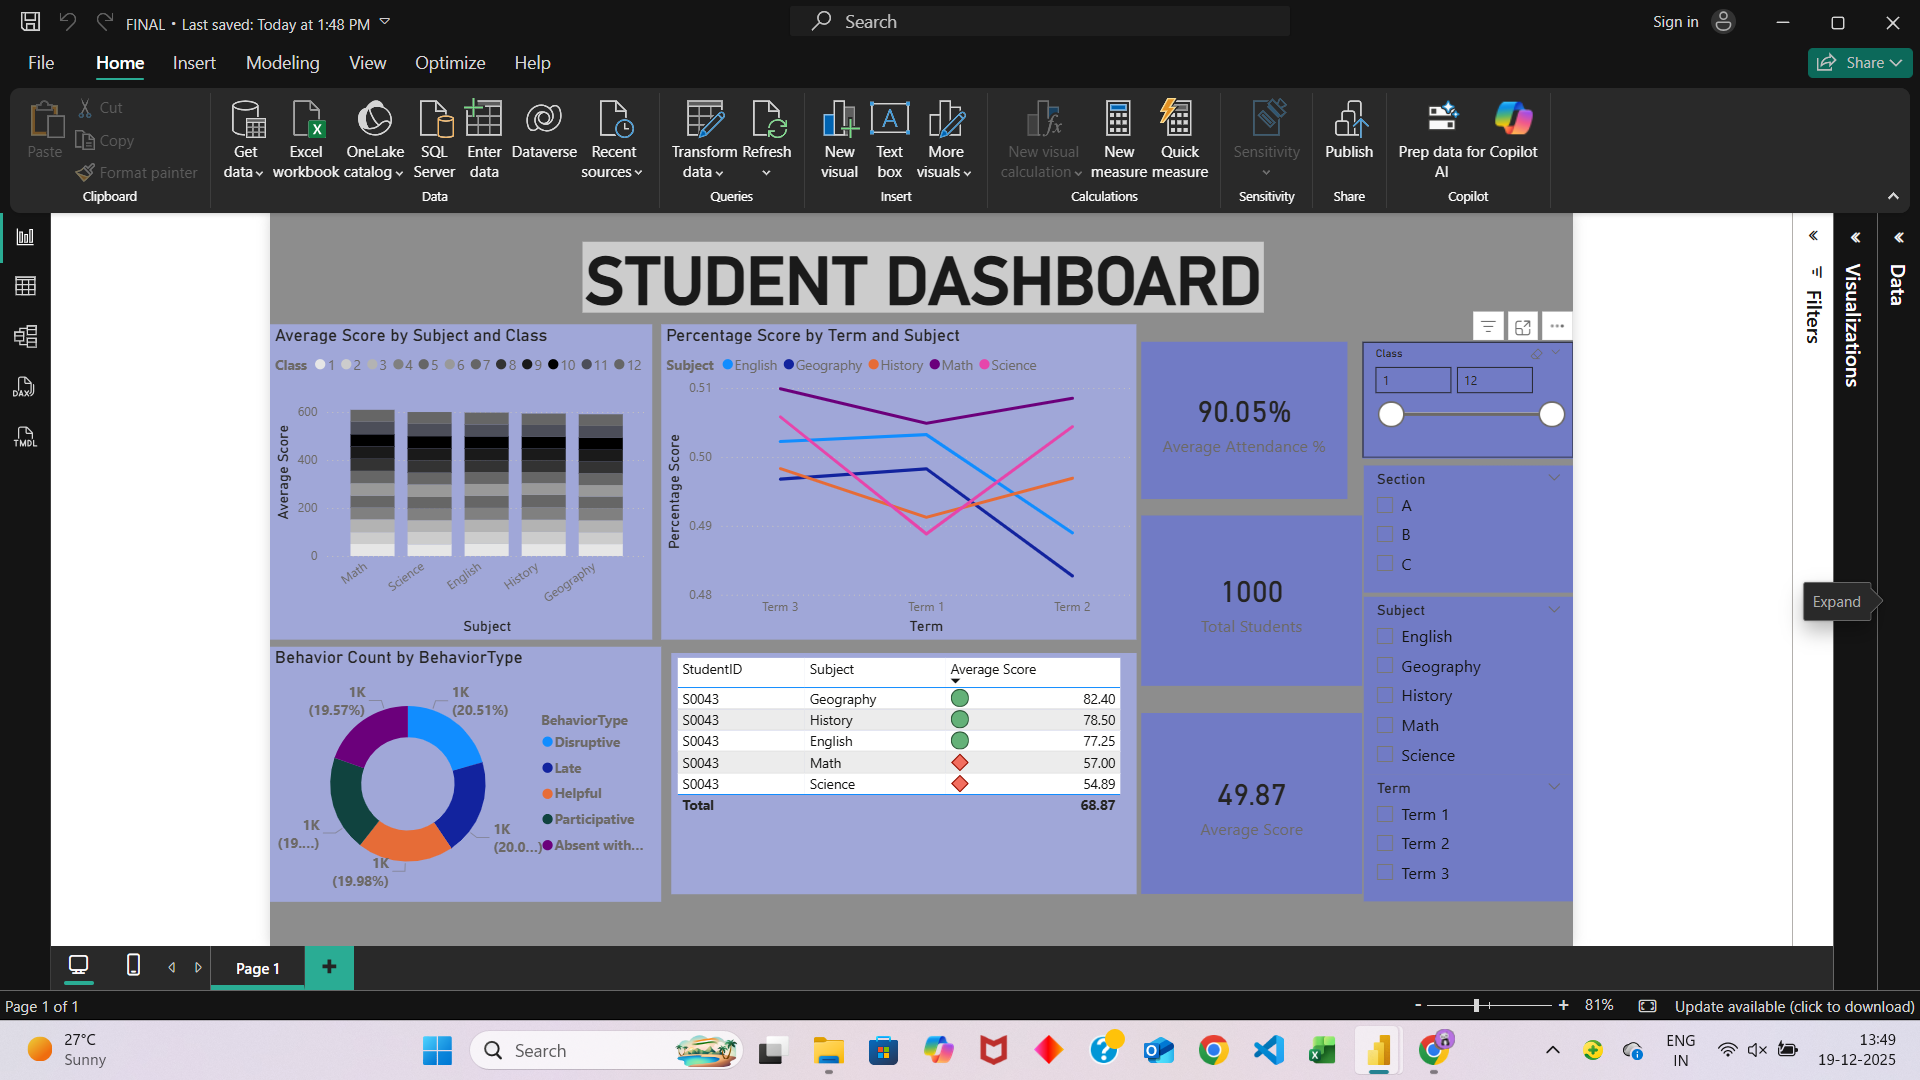

What the dashboard file says about the page in this screenshot:
{"tool":"powerbi","page":{"name":"Page 1","canvas":[1280,720],"ordinal":0},"visuals":[{"type":"columnChart","fields":{"Category":["Scores csv.Subject"],"Series":["Students csv.Class"],"Y":["Table 2.Average Score"]},"box":[0,109.2,375.5,309.2],"z":0},{"type":"lineChart","fields":{"Category":["Scores csv.Term"],"Y":["Table 2.Percentage Score"],"Series":["Scores csv.Subject"]},"box":[384.1,109.2,466.3,309.2],"z":1000},{"type":"donutChart","fields":{"Y":["Table 2.Behavior Count"],"Category":["Behavior csv.BehaviorType"]},"box":[0,425.8,384.1,250.3],"z":2000},{"type":"tableEx","fields":{"Values":["Students csv.StudentID","Scores csv.Subject","Table 2.Average Score"]},"box":[393.9,431.9,456.4,236.8],"z":3000},{"type":"card","fields":{"Values":["Table 2.Total Students"]},"box":[855.2,296.9,217.2,166.9],"z":4000},{"type":"card","fields":{"Values":["Table 2.Average Score"]},"box":[855.2,490.8,217.2,177.9],"z":5000},{"type":"card","fields":{"Values":["Table 2.Average Attendance %"]},"box":[855.2,126.4,202.5,154.6],"z":6000},{"type":"slicer","fields":{"Values":["Scores csv.Subject"]},"box":[1073.6,376.7,206.1,174.2],"z":7000},{"type":"slicer","fields":{"Values":["Scores csv.Term"]},"box":[1073.6,550.9,206.1,125.2],"z":8000},{"type":"slicer","fields":{"Values":["Students csv.Section"]},"box":[1073.6,247.9,206.1,125.2],"z":9000},{"type":"shape","title":"STUDENT DASHBOARD","box":[306.8,28.2,668.7,69.9],"z":10000},{"type":"slicer","fields":{"Values":["Students csv.Class"]},"box":[1072.4,126.4,207.4,114.1],"z":11000}]}

Visuals, with their boxes on the page's 1280x720 design canvas (x1, y1, x2, y2). These are canvas units, not pixel positions in the 1920x1080 screenshot, which may show the page scaled, cropped or inside an application window:
columnChart - Scores csv.Subject x Students csv.Class: bbox(0, 109, 376, 418)
lineChart - Scores csv.Term x Table 2.Percentage Score: bbox(384, 109, 850, 418)
donutChart - Table 2.Behavior Count x Behavior csv.BehaviorType: bbox(0, 426, 384, 676)
tableEx - Students csv.StudentID x Scores csv.Subject: bbox(394, 432, 850, 669)
card - Table 2.Total Students: bbox(855, 297, 1072, 464)
card - Table 2.Average Score: bbox(855, 491, 1072, 669)
card - Table 2.Average Attendance %: bbox(855, 126, 1058, 281)
slicer - Scores csv.Subject: bbox(1074, 377, 1280, 551)
slicer - Scores csv.Term: bbox(1074, 551, 1280, 676)
slicer - Students csv.Section: bbox(1074, 248, 1280, 373)
"STUDENT DASHBOARD" shape: bbox(307, 28, 976, 98)
slicer - Students csv.Class: bbox(1072, 126, 1280, 240)
